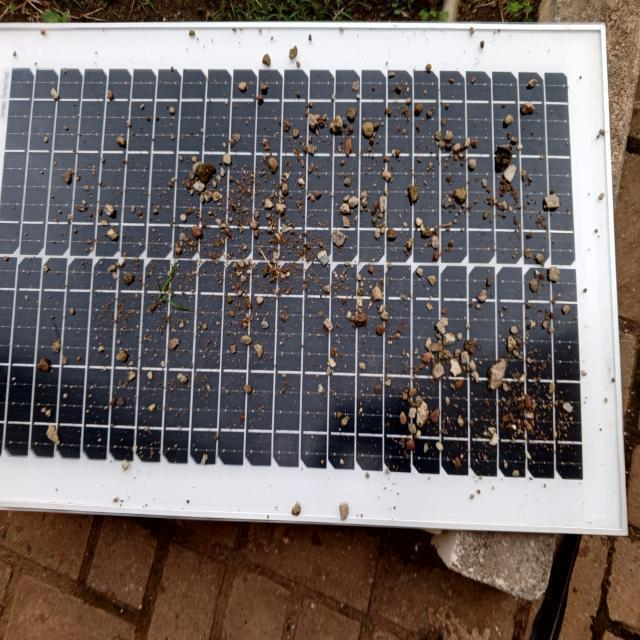Anomaly Solar Panel: (2, 28, 606, 522)
Surface Contaminant: (3, 34, 596, 511)
